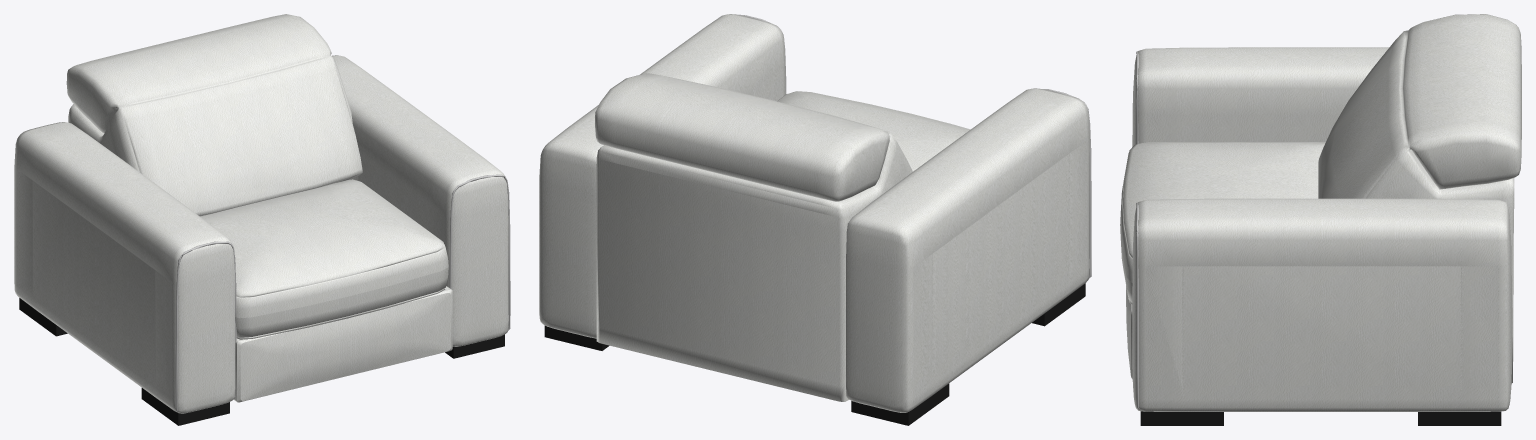
The model's file is 13sofa_w120_h110_d80_577KB.glb.
The picture shows the model from 3 angles, left to right: view 1: azimuth 30°, elevation 25°; view 2: azimuth 150°, elevation 25°; view 3: azimuth 270°, elevation 25°; orthographic projection. The views are drawn at different scales.
Visible parts, largest first — view 1: root; view 2: root; view 3: root.
Part boxes in pixels (x1,y1,x2,y2): root: (14,14,510,425); root: (539,14,1091,425); root: (1120,14,1521,425).
Size of the model in its own units: 1.2 by 0.8 by 1.1.
Materials: 3 (1 with a texture image).
